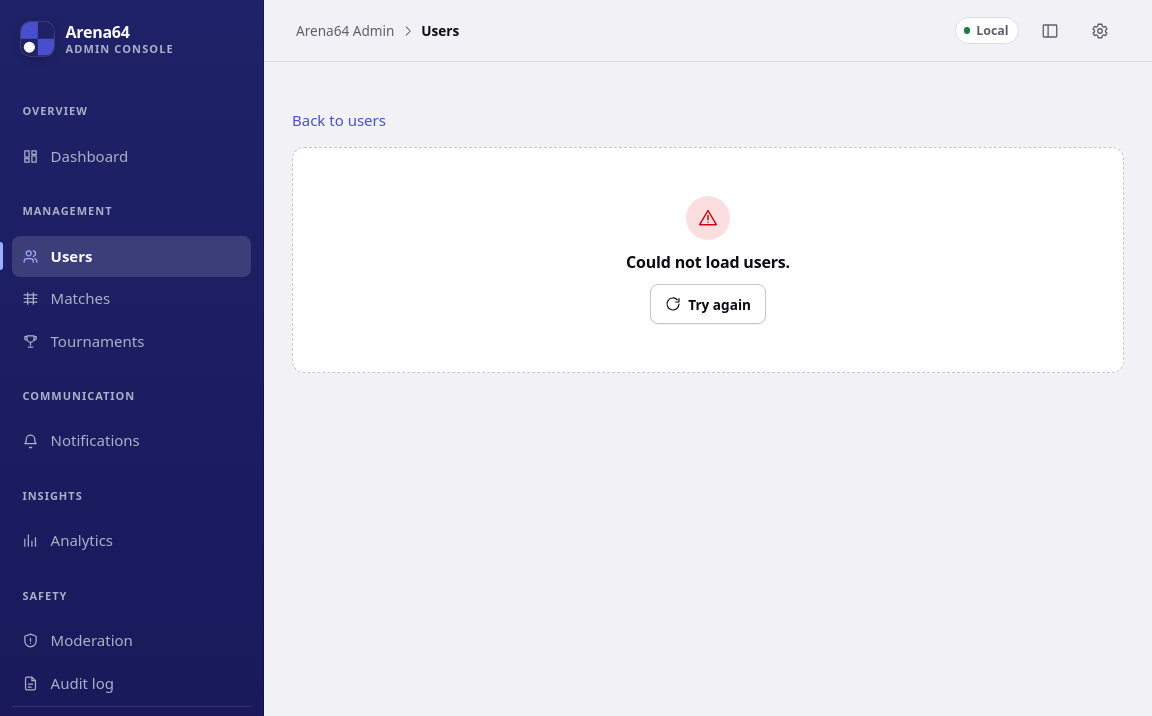
offers a retry when a detail page fails to load, and recovers with it
Step 1. Click the button "Try again" → (708, 304), box top-left (650, 284), bottom-right (766, 324)
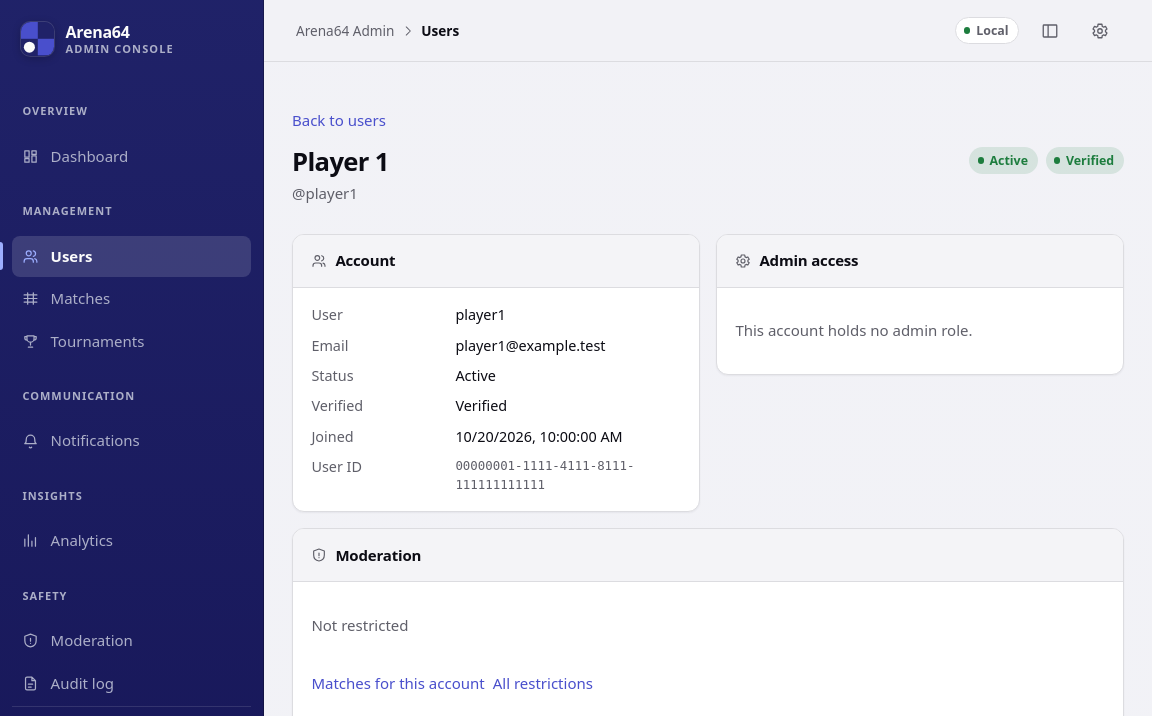
expect the heading "Player 1" is shown: met, box top-left (292, 147), bottom-right (389, 177)
